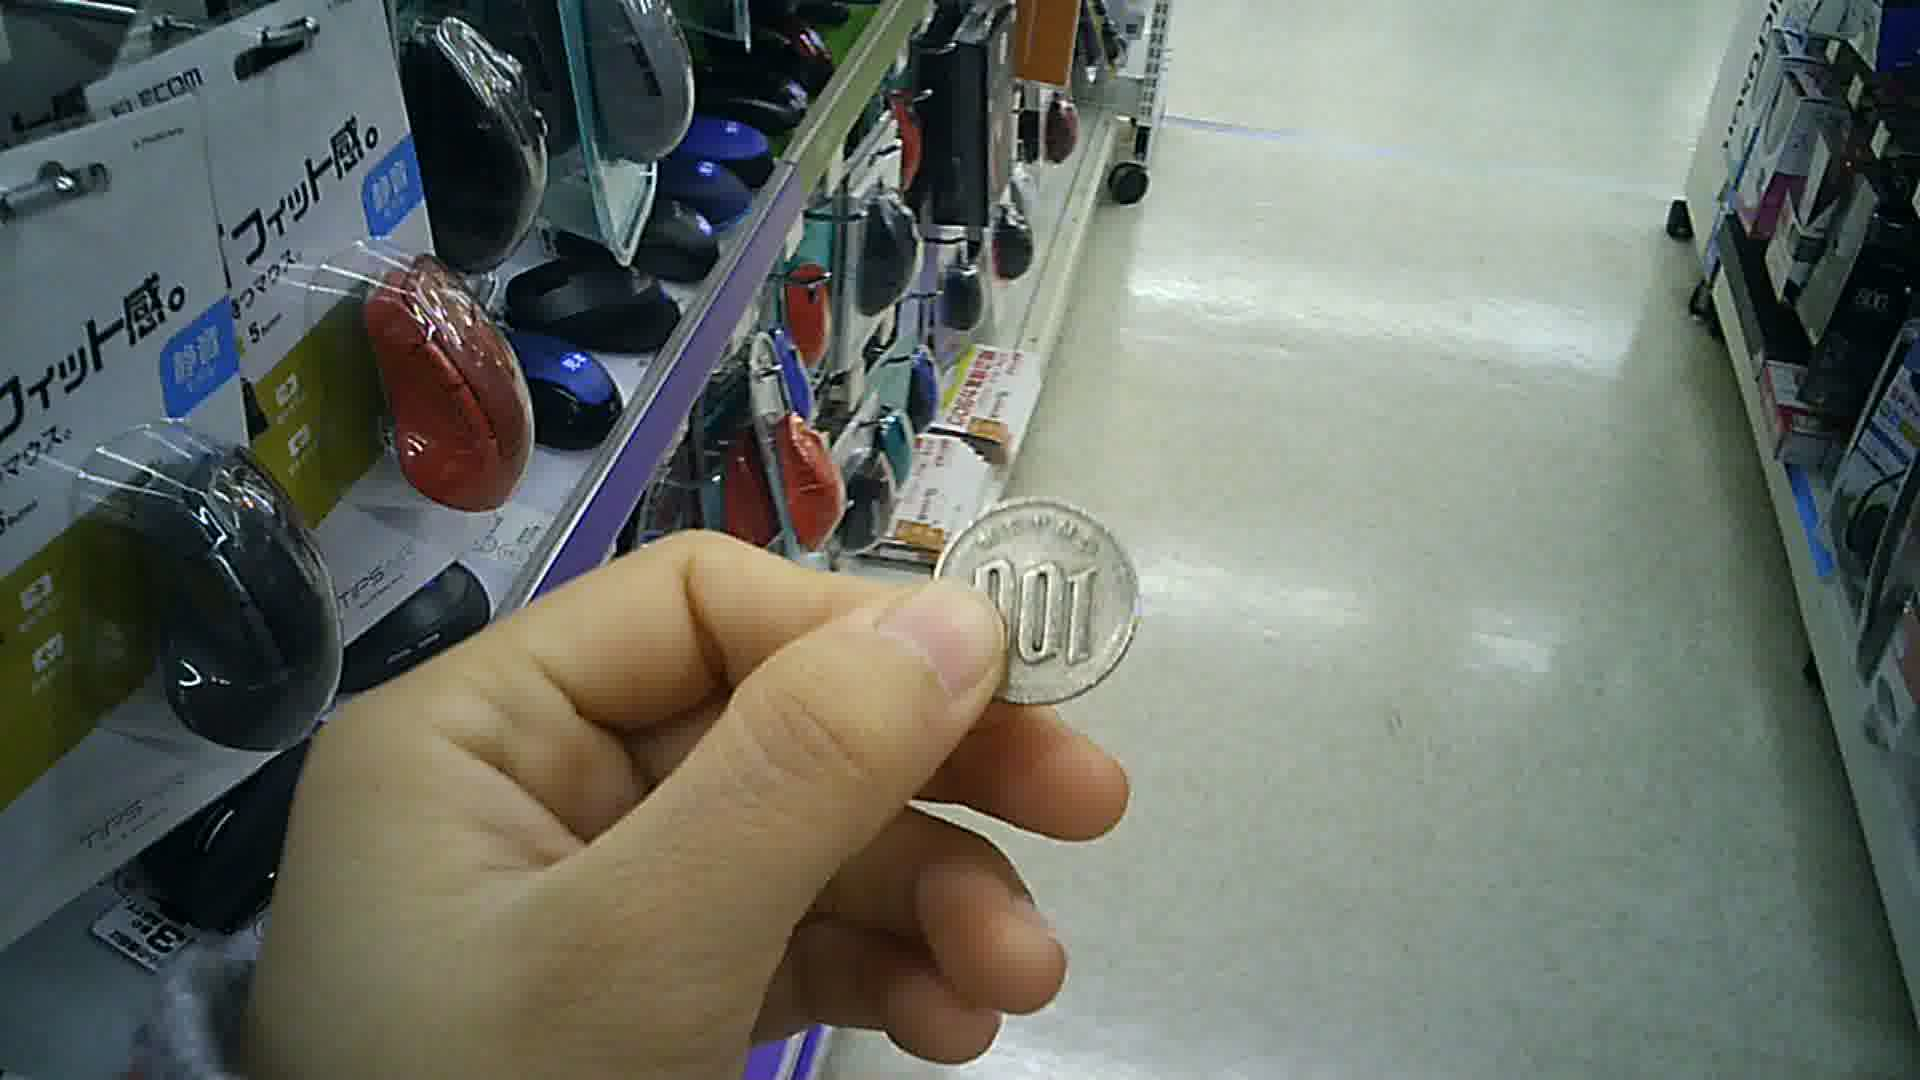100 Yen: (923, 488, 1143, 716)
